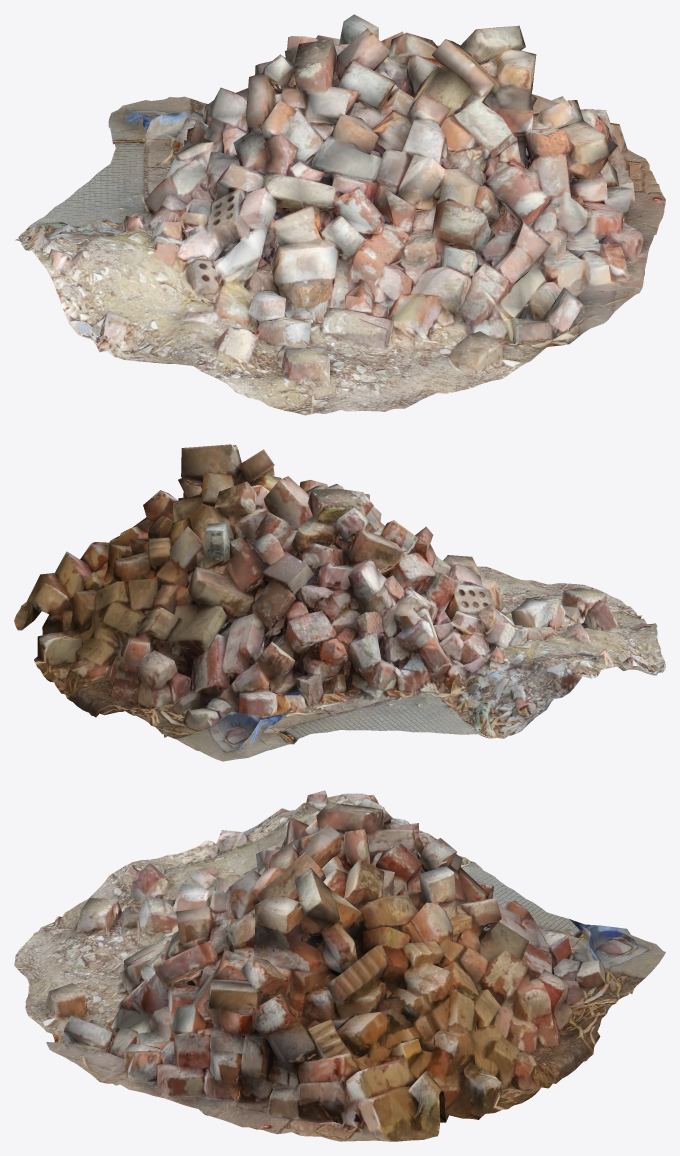
3 views of the same model, one above another, from view 1: azimuth 30°, elevation 25°; view 2: azimuth 150°, elevation 25°; view 3: azimuth 270°, elevation 25° (orthographic). The views are drawn at different scales.
Visible parts, largest first — view 1: RED_BRICK_PILE_MEDUIM_5K_0; view 2: RED_BRICK_PILE_MEDUIM_5K_0; view 3: RED_BRICK_PILE_MEDUIM_5K_0.
Boxes of the visible parts, x1,y1,x2,y2 form: RED_BRICK_PILE_MEDUIM_5K_0: (15,14,665,415); RED_BRICK_PILE_MEDUIM_5K_0: (14,444,665,761); RED_BRICK_PILE_MEDUIM_5K_0: (14,790,665,1141).
Bounding box in the file's own units: 2.45 × 0.8273 × 2.3.
1 material, 1 textured.
